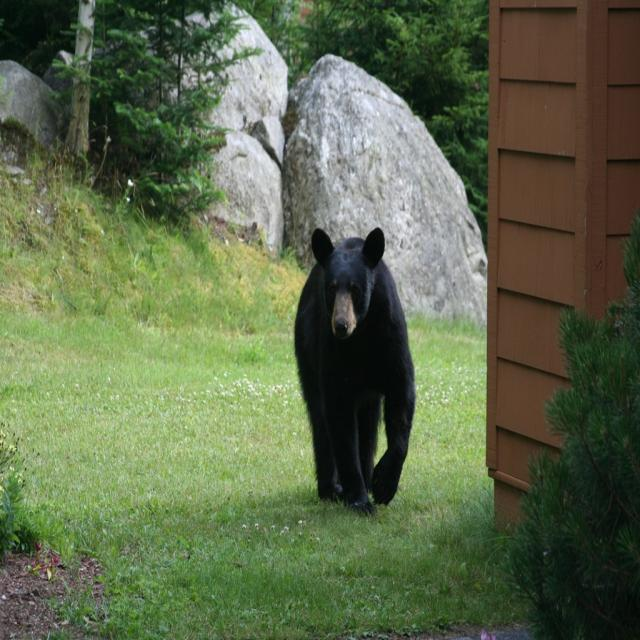not_pig: (293, 225, 416, 516)
